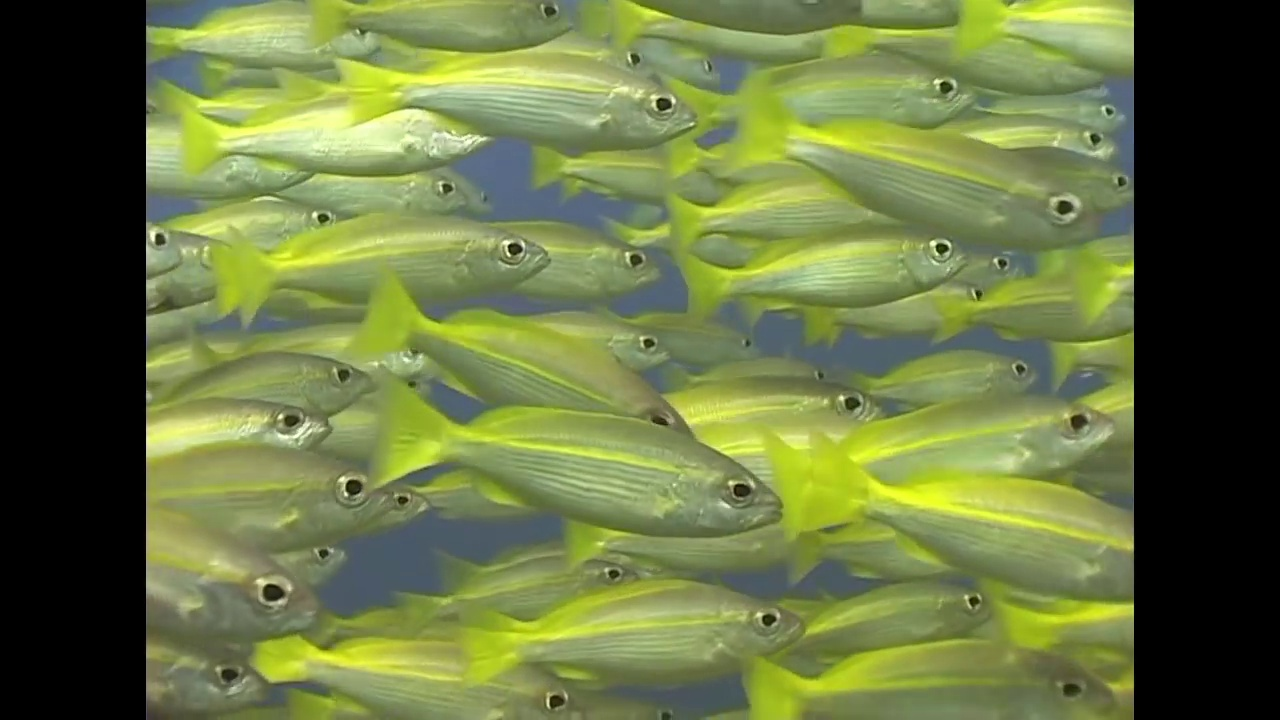big eye snapper: (355, 351, 787, 530), (742, 73, 1100, 237), (371, 269, 694, 443), (807, 426, 1133, 598), (774, 391, 1114, 523), (722, 620, 1118, 717), (645, 30, 982, 141), (222, 201, 550, 313), (336, 42, 706, 137), (453, 579, 807, 677), (260, 607, 584, 714), (678, 220, 964, 314), (149, 499, 323, 647), (145, 451, 372, 555), (153, 451, 372, 555), (173, 96, 492, 166), (784, 566, 993, 662), (666, 172, 880, 261), (925, 253, 1131, 341), (525, 127, 724, 199), (150, 391, 329, 465), (163, 351, 373, 413), (528, 211, 666, 305), (311, 0, 584, 44), (149, 10, 380, 62), (496, 302, 667, 367), (147, 638, 280, 714), (205, 172, 484, 208), (852, 346, 1035, 395), (916, 117, 1123, 159)
